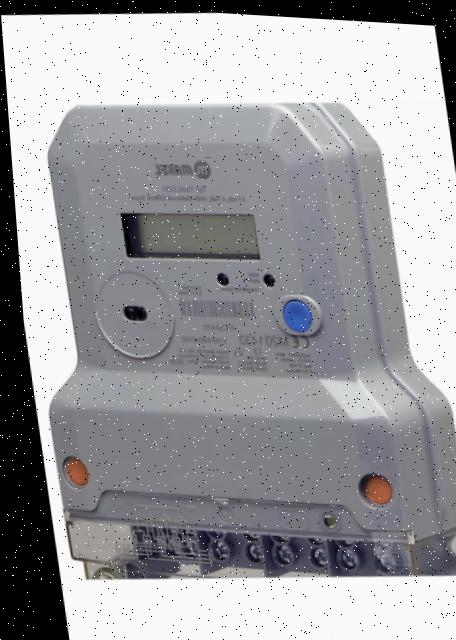electric-meter-detection: (48, 103, 456, 578)
